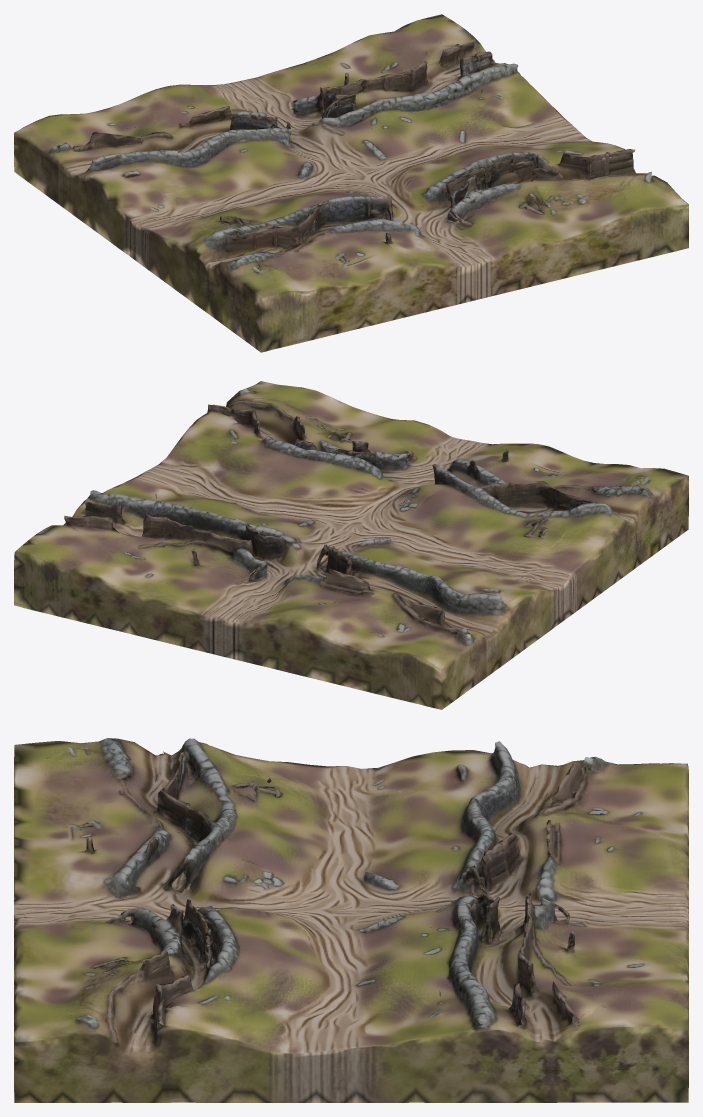
Rendered from ForchtensteinLandscape.glb.
The picture shows the model from 3 angles, top to bottom: view 1: azimuth 30°, elevation 25°; view 2: azimuth 150°, elevation 25°; view 3: azimuth 270°, elevation 25°; orthographic projection. The views are drawn at different scales.
Parts seen in each view (by area): view 1: Mesh0; view 2: Mesh0; view 3: Mesh0.
Boxes of the visible parts, x1,y1,x2,y2 form: Mesh0: (14,14,688,352); Mesh0: (14,381,688,709); Mesh0: (14,738,688,1102).
Size of the model in its own units: 65.72 by 10 by 65.72.
1 material, 1 textured.
